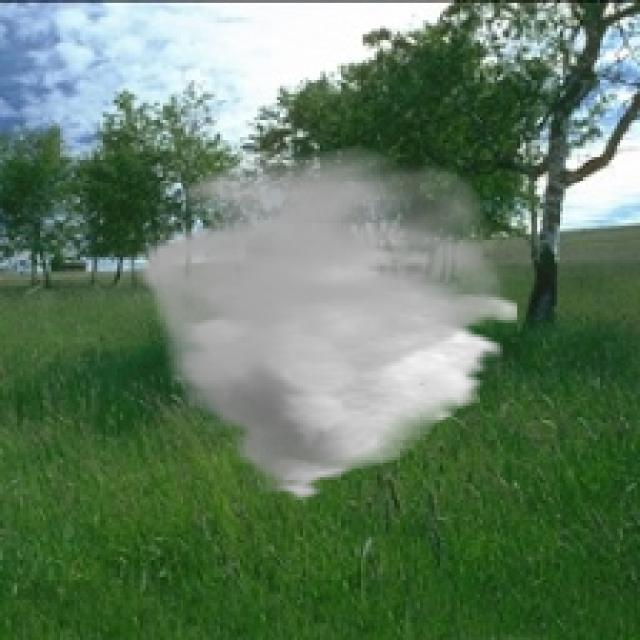smoke: (134, 146, 517, 503)
